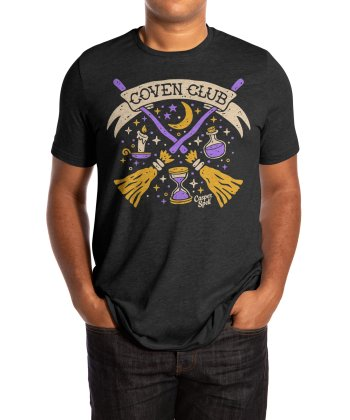design: (103, 73, 254, 219)
